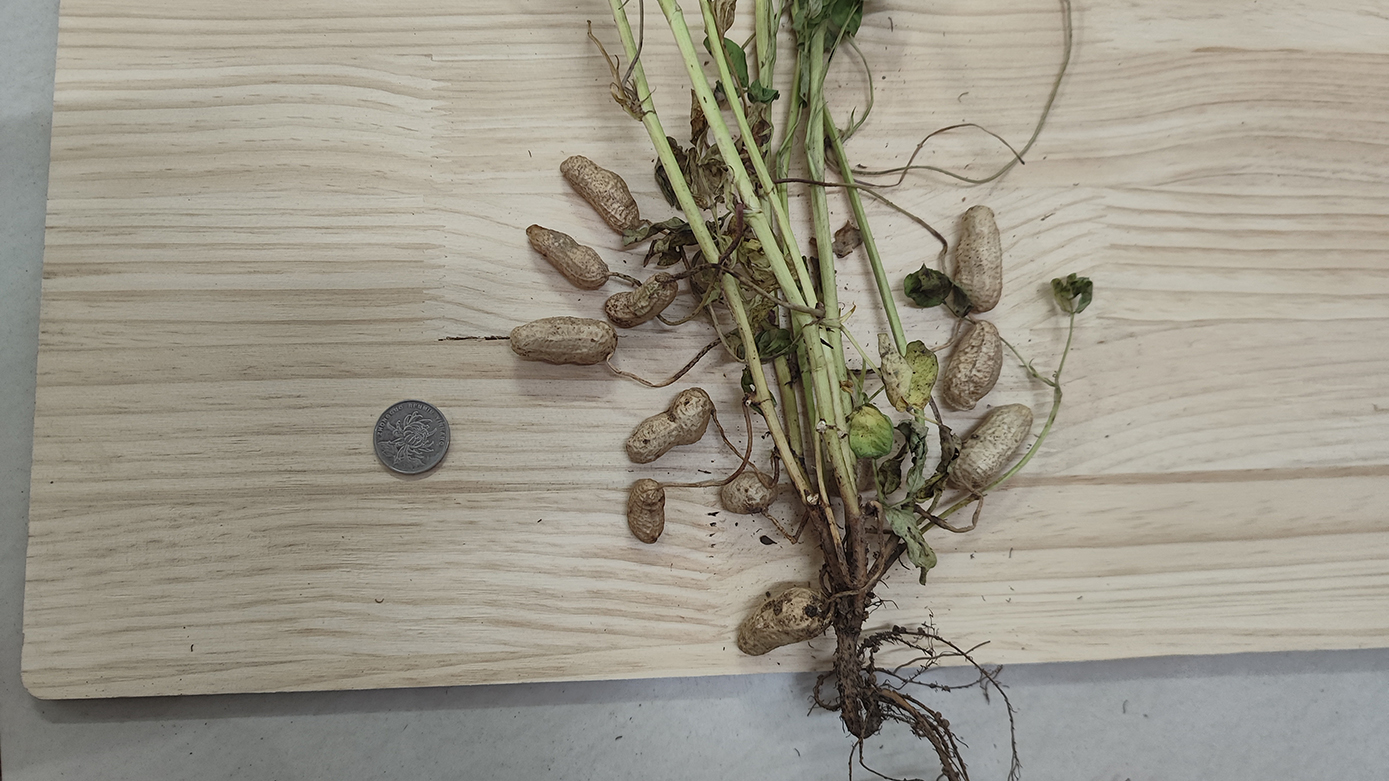h: (952, 403, 1034, 489), (736, 586, 835, 654), (560, 155, 639, 236), (626, 388, 712, 462), (525, 222, 609, 289), (943, 320, 1003, 413), (506, 315, 617, 364), (954, 204, 1004, 311), (605, 271, 678, 327), (628, 478, 666, 543), (721, 472, 775, 513)
